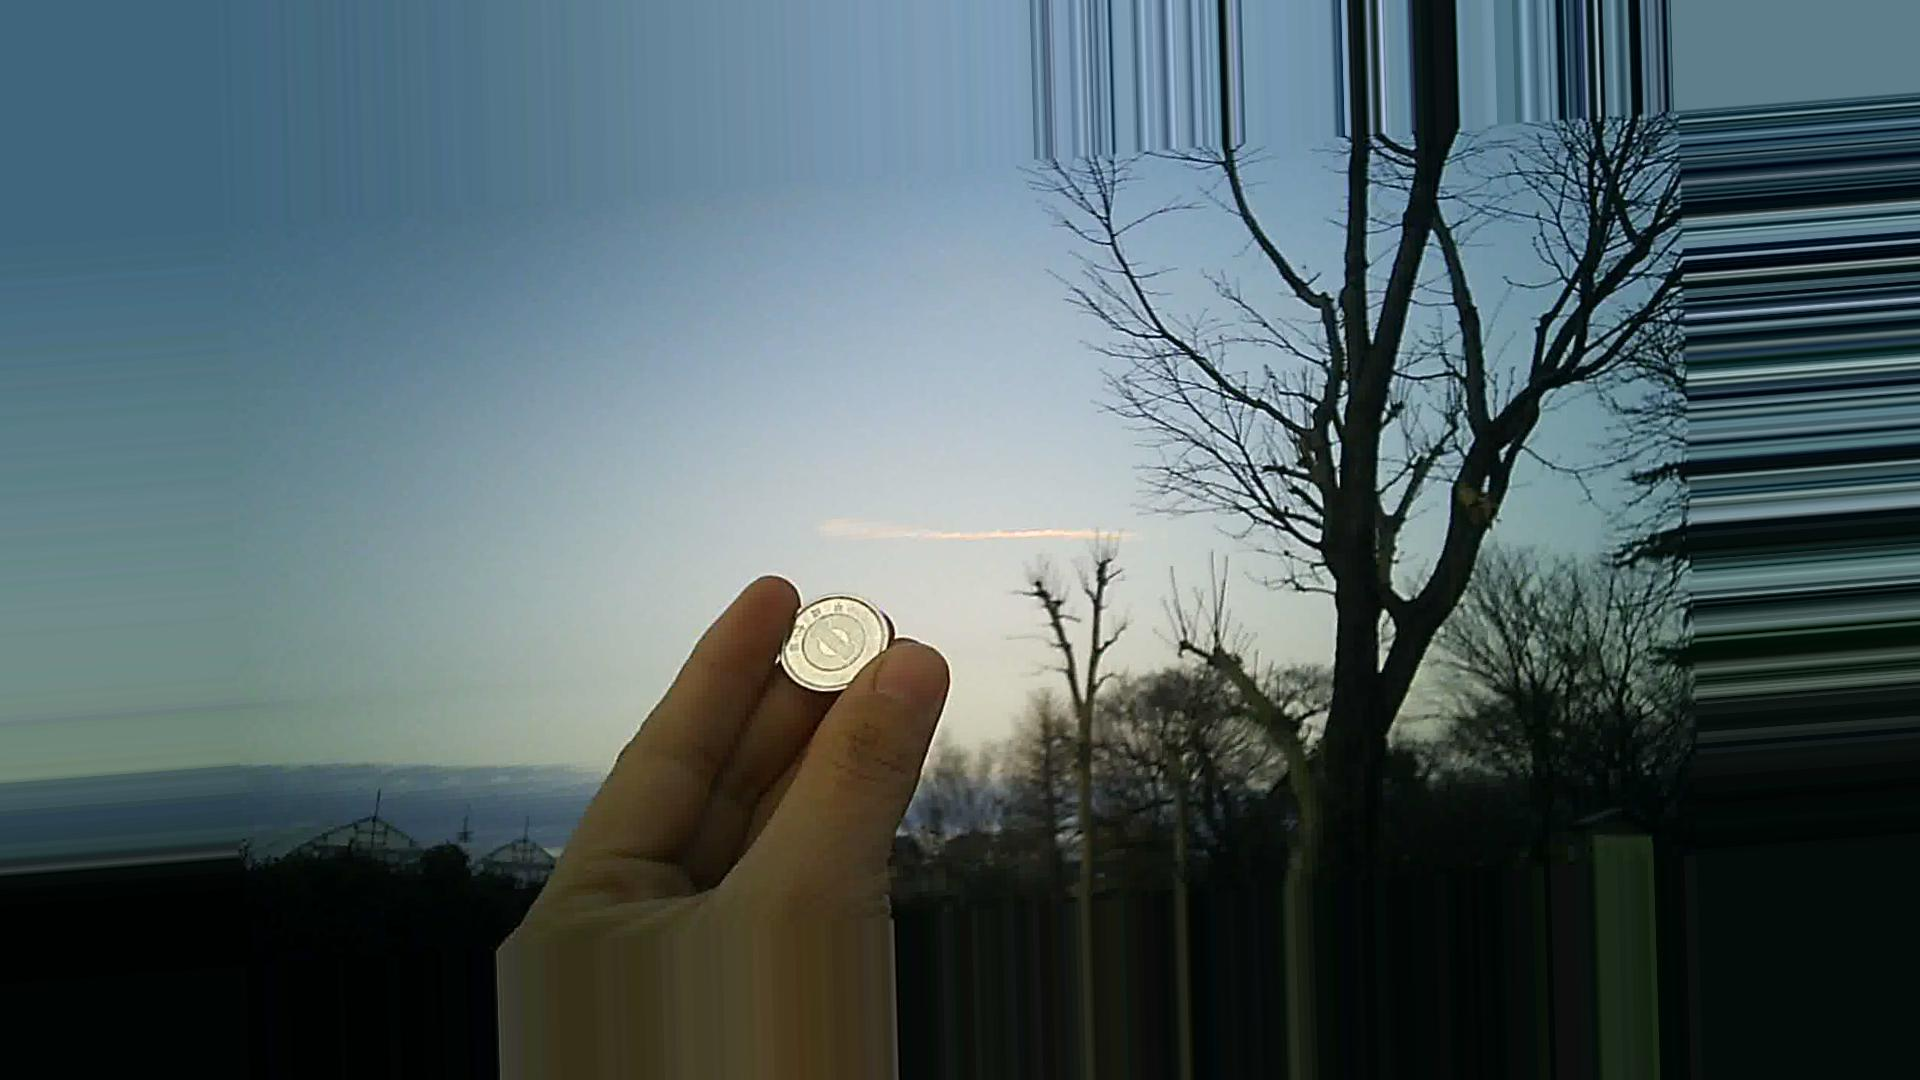1 Yen: (774, 589, 891, 694)
